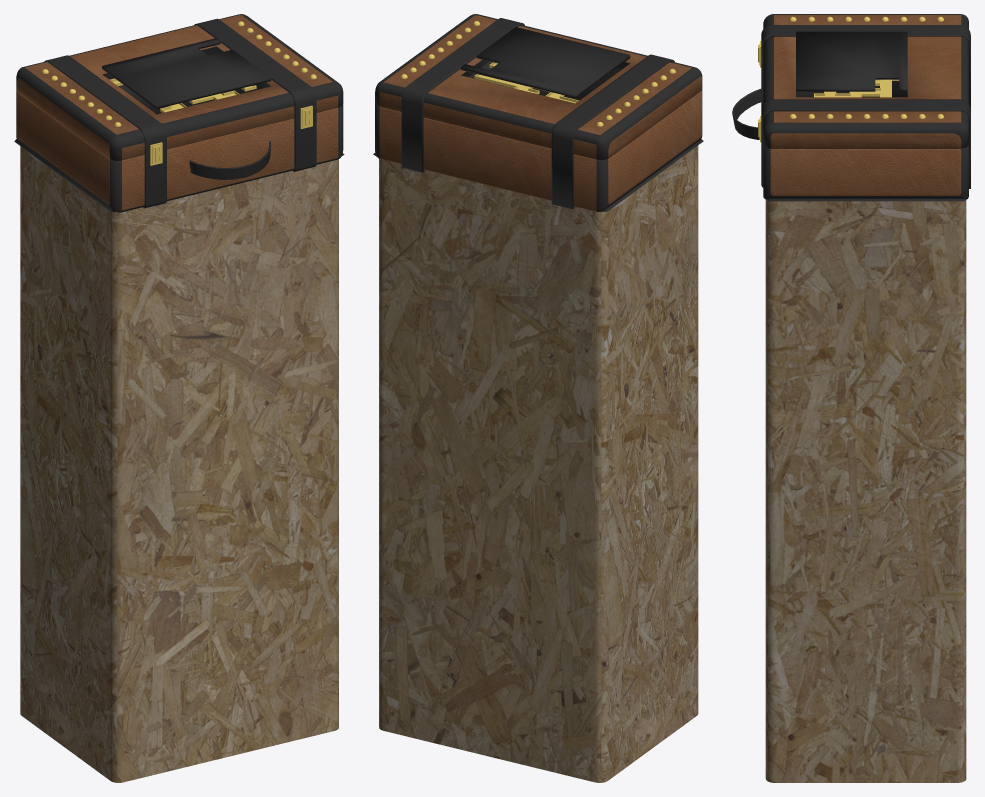
Rendered from Suitcase.gltf.
3 renders of one model, left to right at view 1: azimuth 30°, elevation 25°; view 2: azimuth 150°, elevation 25°; view 3: azimuth 270°, elevation 25°, orthographic.
Parts seen in each view (by area): view 1: SuitcaseLong, SuitcaseUp, Suitcase, Cover, BeltUp, Belt, Handle, ButtonsUp; view 2: SuitcaseLong, SuitcaseUp, Suitcase, Cover, BeltUp, Belt, Maze, ButtonsUp; view 3: SuitcaseLong, SuitcaseUp, Suitcase, Cover, BeltUp, Handle, Maze, ButtonsUp, Belt.
Part boxes in pixels (x1,y1,x2,y2): SuitcaseLong: (14, 139, 344, 782); SuitcaseUp: (16, 14, 343, 160); Suitcase: (16, 91, 343, 212); Cover: (102, 38, 271, 108); BeltUp: (44, 18, 316, 155); Belt: (143, 114, 316, 208); Handle: (189, 141, 271, 179); ButtonsUp: (41, 21, 316, 126); SuitcaseLong: (373, 139, 703, 782); SuitcaseUp: (375, 14, 702, 160); Suitcase: (375, 90, 702, 211); Cover: (461, 27, 630, 97); BeltUp: (401, 18, 674, 155); Belt: (401, 113, 574, 209); Maze: (474, 62, 579, 103); ButtonsUp: (400, 21, 675, 126); SuitcaseLong: (765, 198, 966, 782); SuitcaseUp: (763, 14, 968, 148); Suitcase: (763, 145, 968, 199); Cover: (796, 31, 907, 91); BeltUp: (761, 25, 970, 133); Handle: (732, 88, 763, 139); Maze: (814, 79, 899, 97); ButtonsUp: (789, 16, 944, 118); Belt: (761, 59, 970, 188).
Bounding box in the file's own units: 0.8048 × 2.14 × 0.6963.
Materials: 4 (2 with a texture image).
